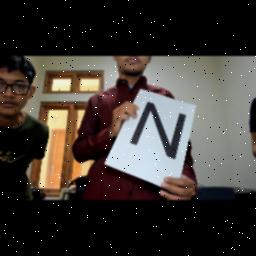n: (129, 96, 187, 168)
